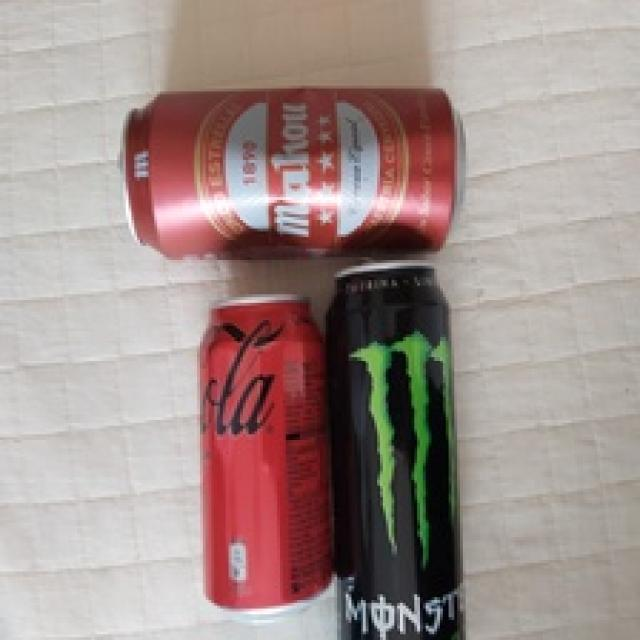recyclable: (118, 84, 465, 260), (325, 258, 467, 640), (196, 290, 332, 620)
